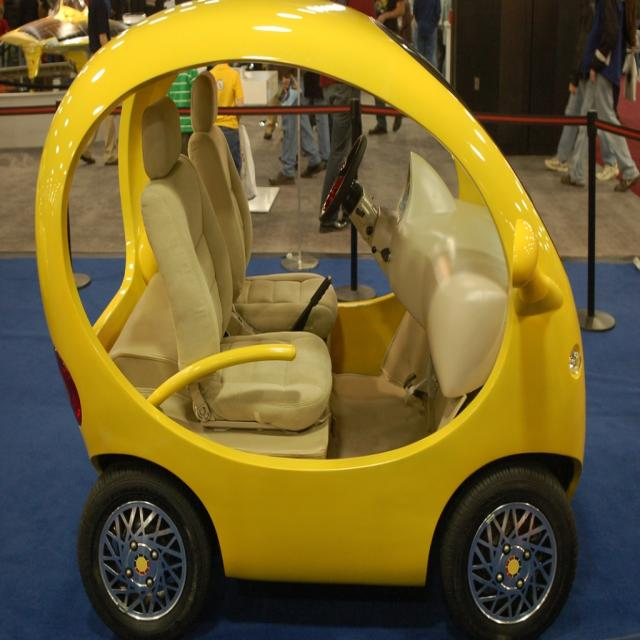car: (37, 0, 583, 638)
